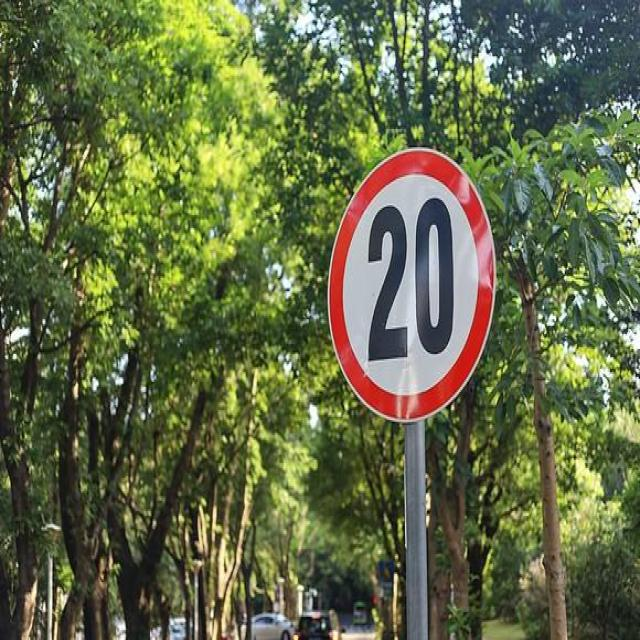speed limit 20: (327, 149, 496, 422)
